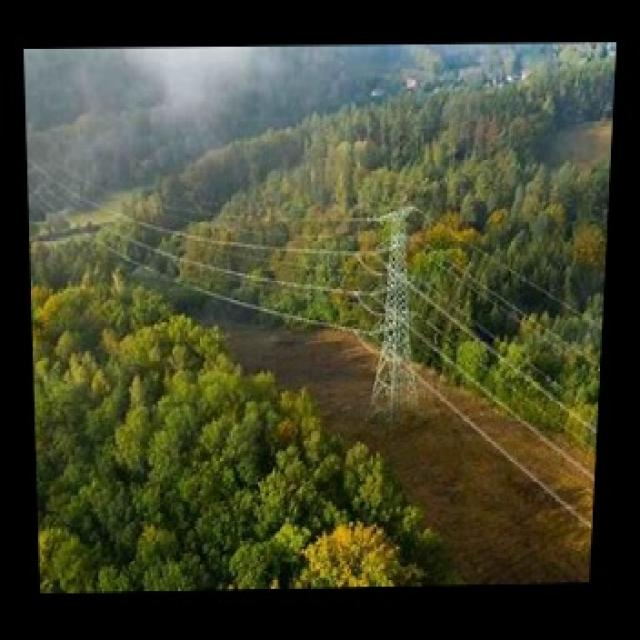utility poles: (341, 185, 451, 432)
